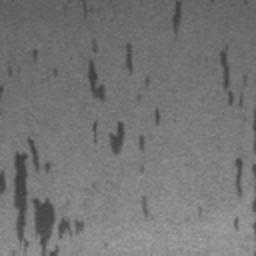Red iron sheet: (0, 137, 83, 256), (86, 37, 161, 156), (218, 44, 256, 229), (31, 47, 59, 79), (0, 65, 14, 100), (172, 0, 183, 40), (141, 195, 150, 218), (81, 0, 90, 22)
